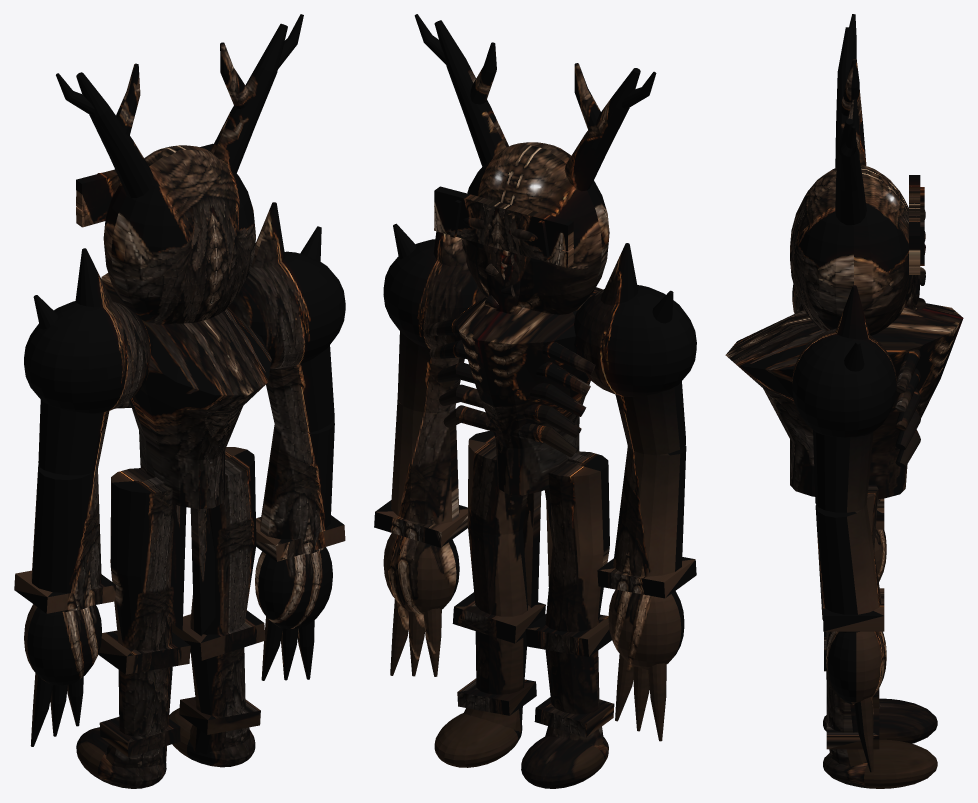
Rendered from TheBlindOne.obj.
3 views of the same model, side by side, from view 1: azimuth 30°, elevation 25°; view 2: azimuth 150°, elevation 25°; view 3: azimuth 270°, elevation 25° (orthographic). The views are drawn at different scales.
Visible parts, largest first — view 1: TheBlindOne; view 2: TheBlindOne; view 3: TheBlindOne.
Part boxes in pixels (bbox=[...]): TheBlindOne: bbox=[14, 14, 345, 788]; TheBlindOne: bbox=[374, 14, 696, 788]; TheBlindOne: bbox=[725, 14, 963, 788].
Bounding box in the file's own units: 3.98 × 8.99 × 2.8.
Materials: 1 (1 with a texture image).
